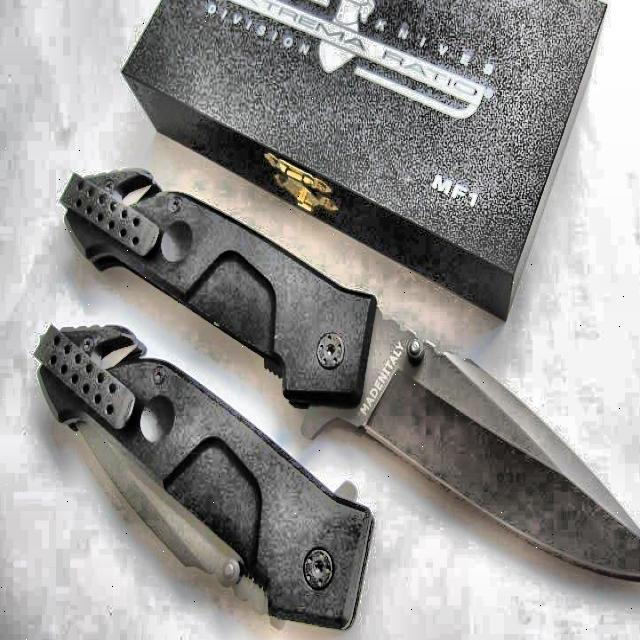knife: (64, 170, 640, 580), (36, 330, 370, 628)
